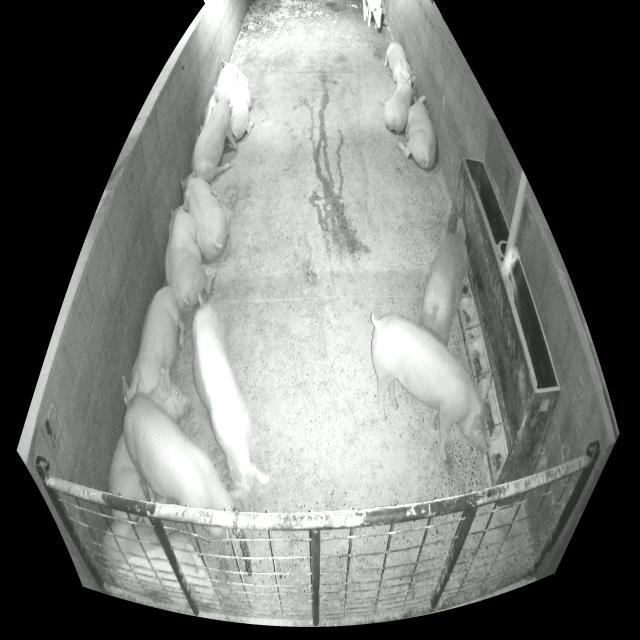pig: (371, 312, 492, 461), (192, 294, 270, 500), (124, 393, 242, 511), (102, 372, 189, 529), (103, 519, 215, 609), (122, 287, 185, 399), (421, 218, 468, 345), (190, 87, 239, 183), (165, 199, 206, 311), (180, 170, 228, 260), (397, 95, 436, 169), (218, 60, 254, 140), (385, 75, 415, 134), (384, 42, 411, 86), (362, 0, 382, 28), (200, 95, 215, 132)
